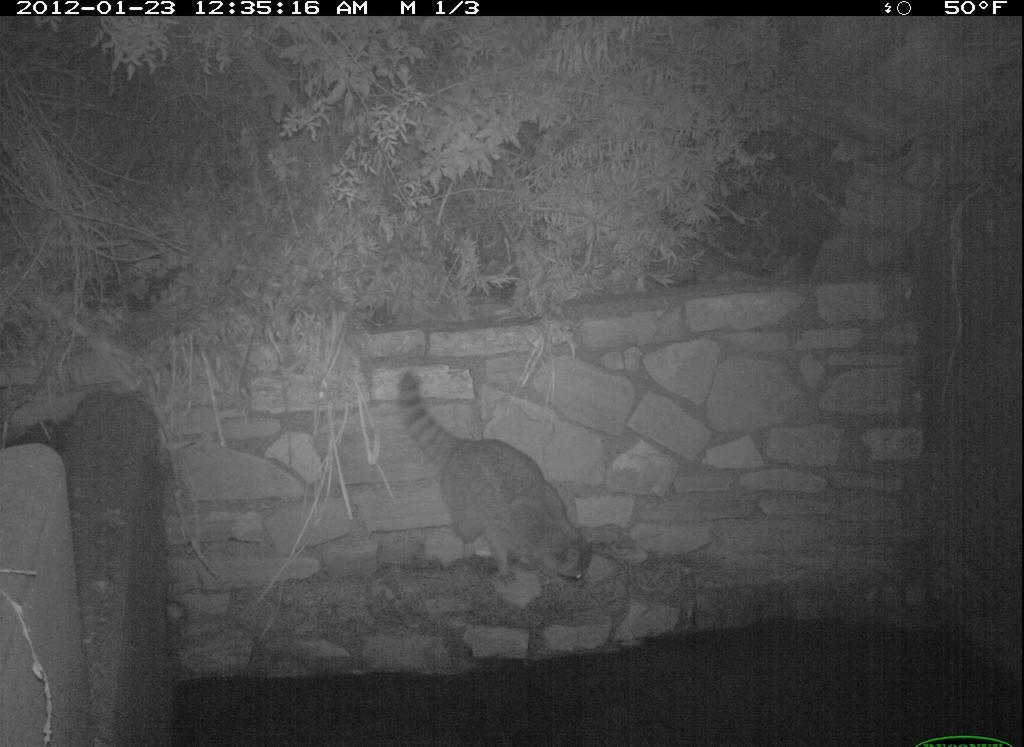raccoon: (363, 373, 612, 599)
